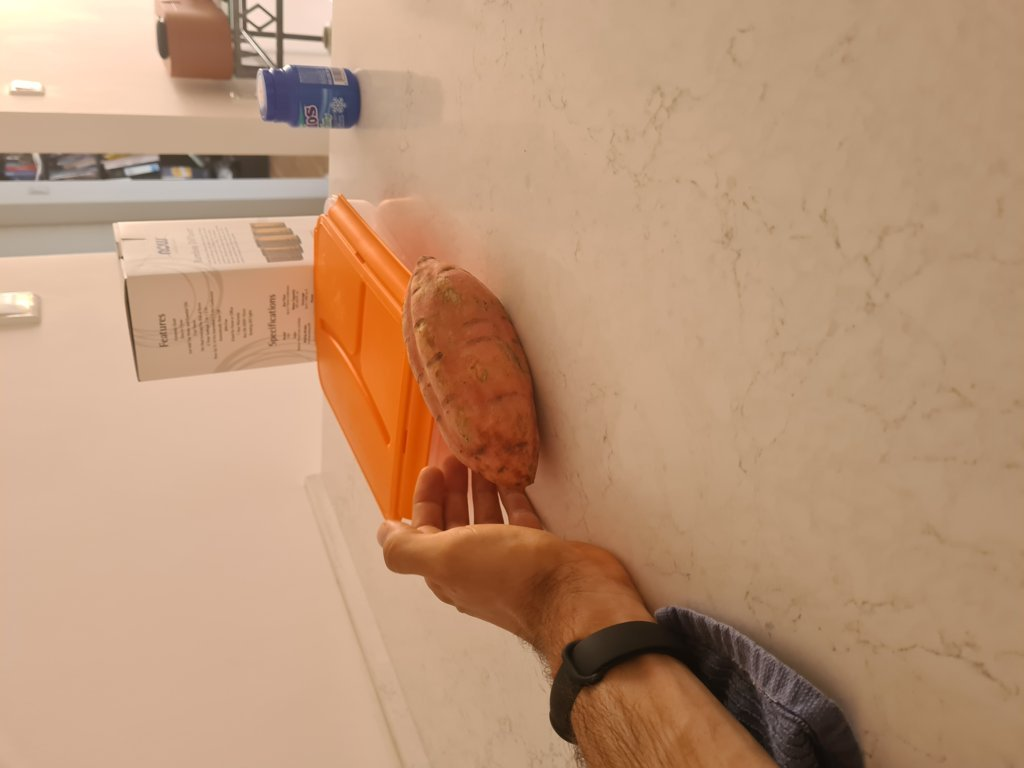Sweet Potatow: (409, 247, 538, 488)
